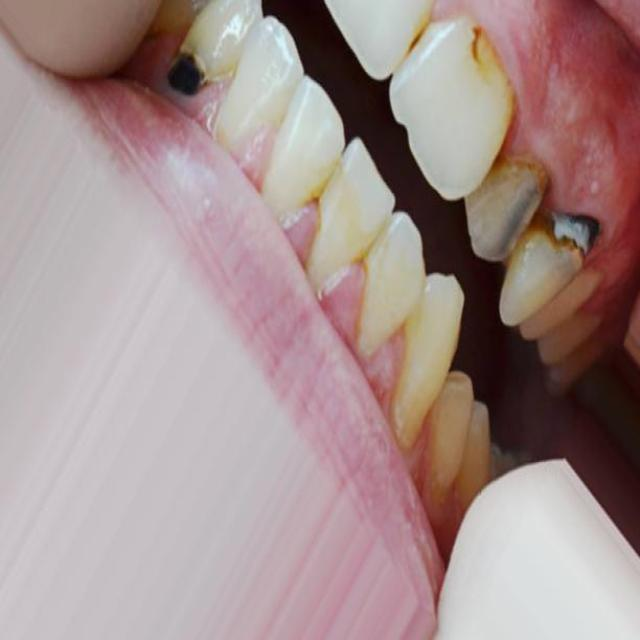caries: (158, 21, 238, 109), (543, 198, 612, 268), (455, 19, 513, 89)
